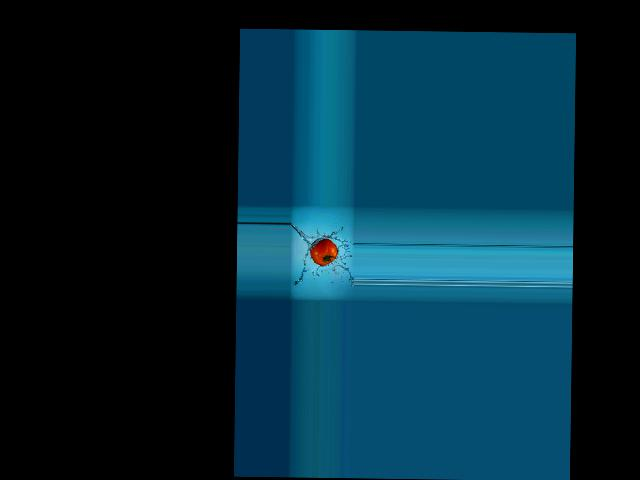tomato: (310, 238, 338, 265)
